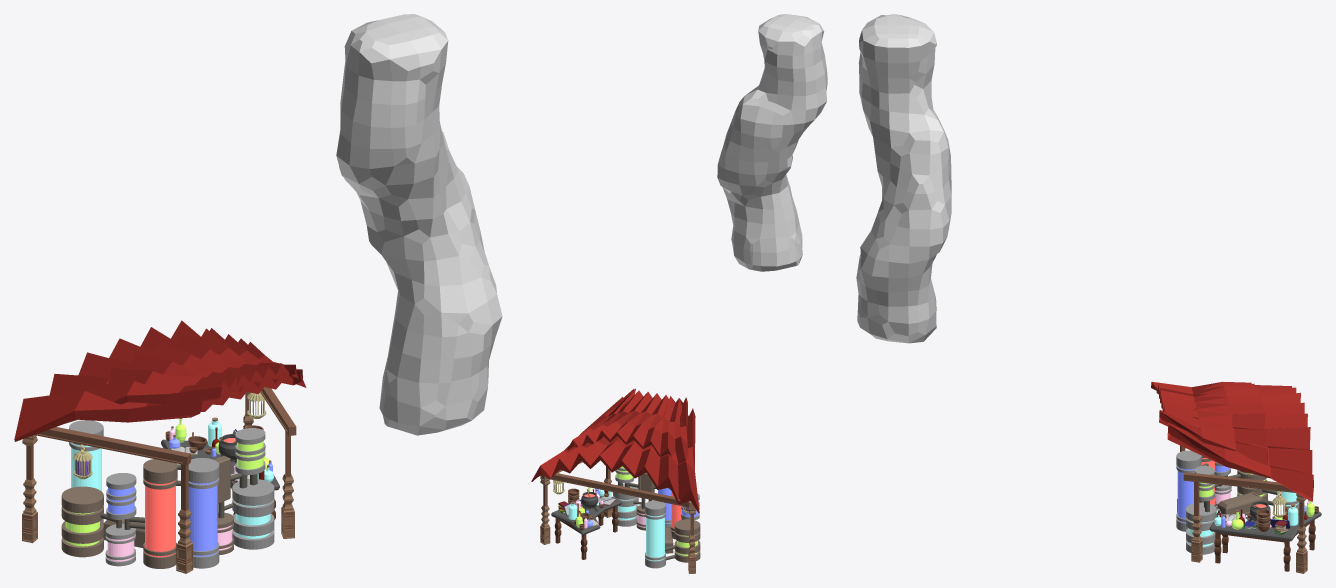
The model's file is shop.fbx.
3 renders of one model, left to right at view 1: azimuth 30°, elevation 25°; view 2: azimuth 150°, elevation 25°; view 3: azimuth 270°, elevation 25°, orthographic. The views are drawn at different scales.
Parts seen in each view (by area): view 1: Cylinder.001, Cube.162, Cube.129, Cylinder.089, Cube.146, Cylinder.057, Cylinder.096, Cylinder.060, Cylinder.106, Cylinder.091, Cylinder.055, Cube.145; view 2: Cylinder.001, Cube.129, Cube.162, Cube.161, Cylinder.106, Cube.174; view 3: Cylinder.001, Cube.162, Cube.129, Cube.145, Cube.174, Cube.198, Cylinder.057.
Boxes of the visible parts, left/top/right/bottom form: Cylinder.001: left=336, top=14, right=502, bottom=435; Cube.162: left=87, top=328, right=298, bottom=404; Cube.129: left=14, top=320, right=306, bottom=441; Cylinder.089: left=145, top=480, right=175, bottom=557; Cube.146: left=34, top=427, right=190, bottom=465; Cylinder.057: left=188, top=480, right=217, bottom=556; Cylinder.096: left=61, top=486, right=103, bottom=513; Cylinder.060: left=232, top=479, right=274, bottom=505; Cylinder.106: left=71, top=442, right=101, bottom=491; Cylinder.091: left=143, top=459, right=177, bottom=483; Cylinder.055: left=188, top=458, right=219, bottom=483; Cube.145: left=260, top=387, right=296, bottom=435; Cylinder.001: left=717, top=14, right=827, bottom=271; Cube.129: left=531, top=397, right=699, bottom=513; Cube.162: left=567, top=388, right=688, bottom=463; Cube.161: left=546, top=473, right=689, bottom=507; Cylinder.106: left=646, top=514, right=664, bottom=560; Cube.174: left=551, top=494, right=621, bottom=535; Cylinder.001: left=856, top=14, right=951, bottom=343; Cube.162: left=1151, top=381, right=1267, bottom=465; Cube.129: left=1156, top=385, right=1313, bottom=501; Cube.145: left=1183, top=472, right=1295, bottom=492; Cube.174: left=1209, top=511, right=1321, bottom=541; Cube.198: left=1217, top=492, right=1262, bottom=515; Cylinder.057: left=1177, top=467, right=1195, bottom=522.
Size of the model in its own units: 1517 by 3831 by 3205.
